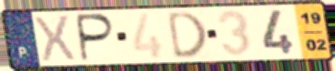3: (216, 8, 255, 59)
4: (261, 8, 299, 57), (131, 12, 166, 60)
D: (166, 10, 208, 61)
P: (76, 13, 118, 64)
X: (32, 14, 77, 63)
